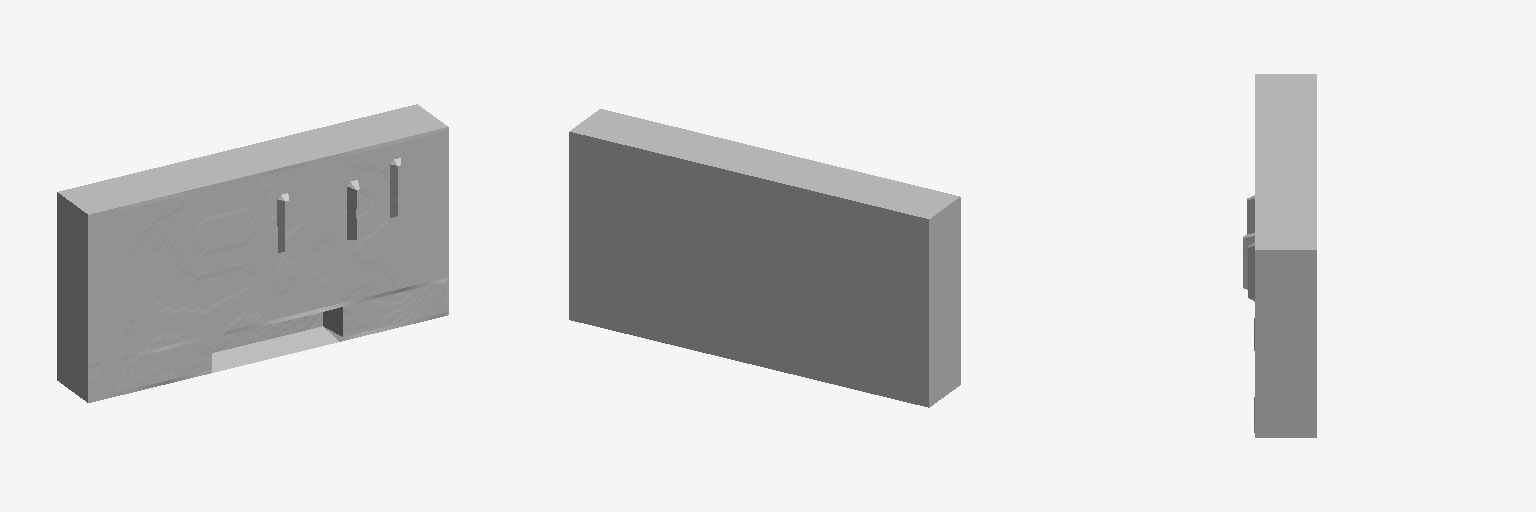
The model's file is rectangular_prism_bumps_6_2.obj.
3 renders of one model, left to right at view 1: azimuth 30°, elevation 25°; view 2: azimuth 150°, elevation 25°; view 3: azimuth 270°, elevation 25°, orthographic.
Bounding box in the file's own units: 10 × 5 × 1.8.